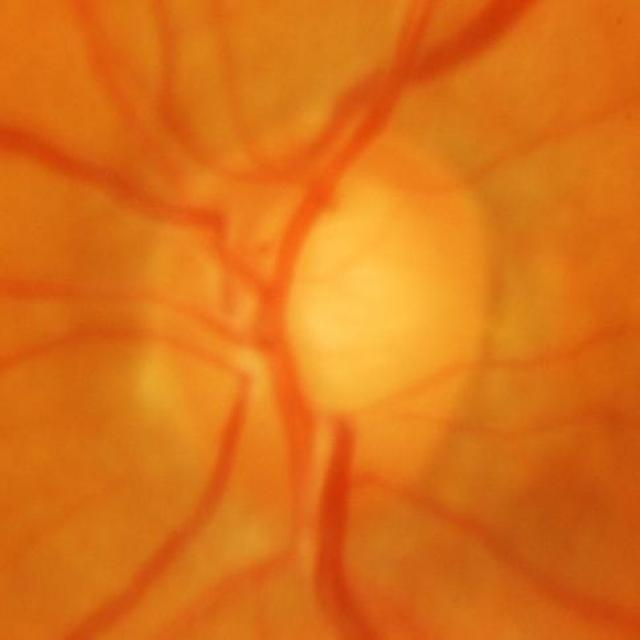OC: (238, 188, 432, 416)
OD: (137, 126, 492, 503)
